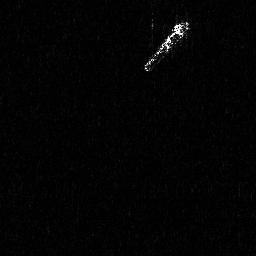ship: (142, 19, 191, 72)
